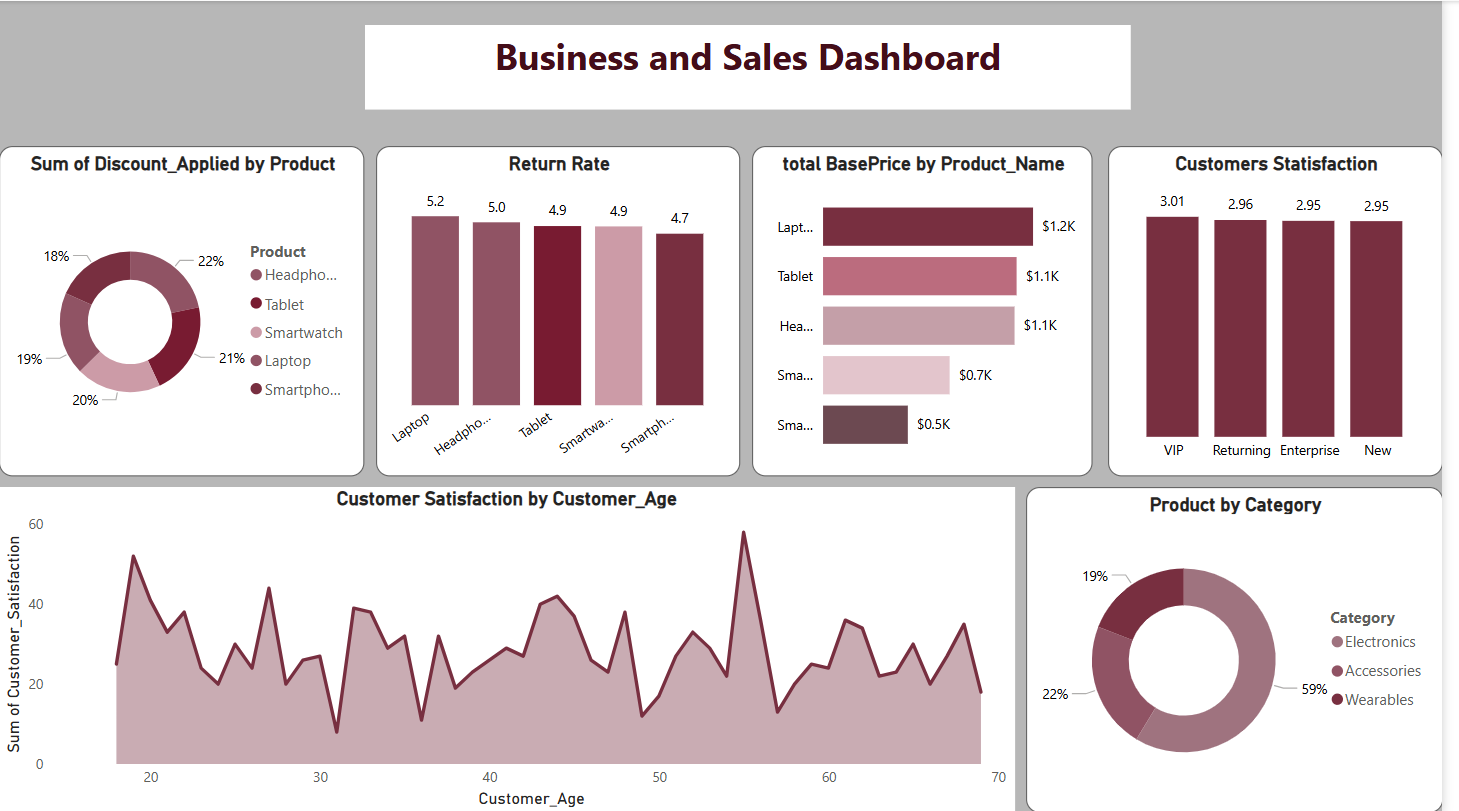

This screenshot's page, from the dashboard's own definition file:
{"tool":"powerbi","page":{"name":"Page 2","canvas":[1280,720],"ordinal":1},"visuals":[{"type":"areaChart","title":"Customer Satisfaction by Customer_Age","fields":{"Category":["customers.Customer_Age"],"Y":["Sum(customers.Customer_Satisfaction)"]},"box":[0,430.9,900.7,288.7],"z":0},{"type":"donutChart","fields":{"Category":["sales_data.Product"],"Y":["Sum(sales_data.Discount_Applied)"]},"box":[0,128.5,324.5,292.9],"z":1000},{"type":"clusteredColumnChart","title":"Return Rate","fields":{"Category":["sales_data.Product"],"Y":["sales_data.Avg_Return_Rate_Percentage"]},"box":[334,128.5,323.4,292.9],"z":3000},{"type":"donutChart","title":" Product by Category","fields":{"Category":["products.Category"],"Y":["CountNonNull(sales_data.Product)"]},"box":[910.2,430.9,369.8,288.7],"z":4000},{"type":"clusteredBarChart","fields":{"Category":["products.Product_Name"],"Y":["products.total BasePrice"]},"box":[667.9,128.5,302.4,292.9],"z":4001},{"type":"clusteredColumnChart","title":" Customers Statisfaction","fields":{"Category":["customers.Customer_Type"],"Y":["Avg(customers.Customer_Satisfaction)"]},"box":[982.9,128.5,297.1,292.9],"z":4002},{"type":"textbox","box":[324.9,21.3,679.3,75],"z":4003}]}

Visuals, with their boxes in screenshot pixels (x1, y1, x2, y2), scaled from the page's 1280x720 canvas onto the 1459x811 screenshot:
"Customer Satisfaction by Customer_Age" areaChart: <box>0,485,1027,810</box>
donutChart - sales_data.Product x Sum(sales_data.Discount_Applied): <box>0,145,370,475</box>
"Return Rate" clusteredColumnChart: <box>381,145,749,475</box>
" Product by Category" donutChart: <box>1037,485,1458,810</box>
clusteredBarChart - products.Product_Name x products.total BasePrice: <box>761,145,1106,475</box>
" Customers Statisfaction" clusteredColumnChart: <box>1120,145,1458,475</box>
textbox: <box>370,24,1145,108</box>
